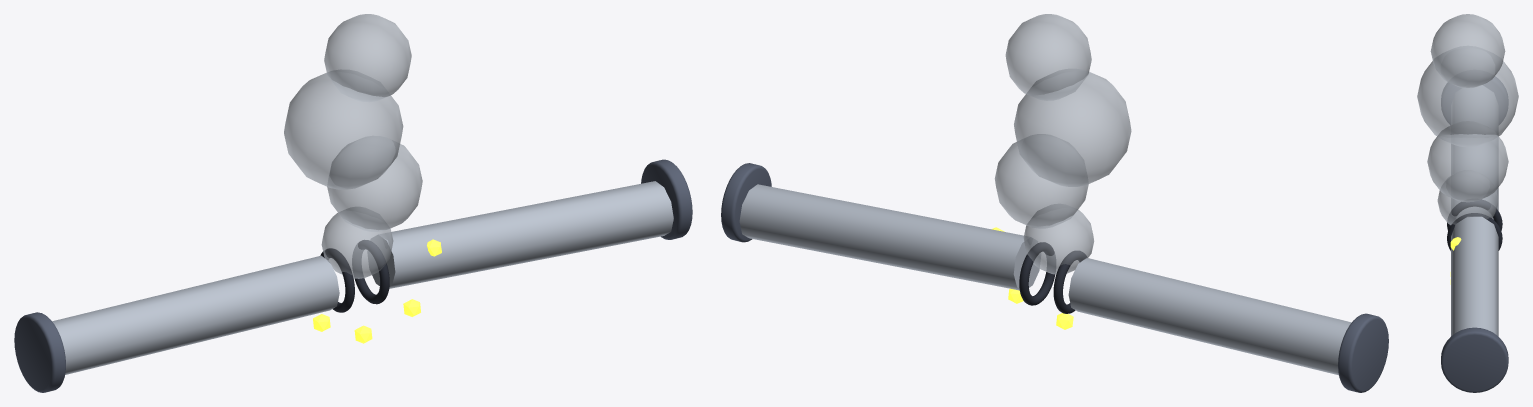
File: Incident_BrokenPipe.glb
3 renders of one model, left to right at view 1: azimuth 30°, elevation 25°; view 2: azimuth 150°, elevation 25°; view 3: azimuth 270°, elevation 25°, orthographic. The views are drawn at different scales.
Parts seen in each view (by area): view 1: Incident_BrokenPipe.PipeB, Incident_BrokenPipe.PipeA, Incident_BrokenPipe.Steam2, Incident_BrokenPipe.Steam1, Incident_BrokenPipe.Steam3, Incident_BrokenPipe.Steam0, Incident_BrokenPipe.Flange, Incident_BrokenPipe.Flange.001, Incident_BrokenPipe.Crack.001, Incident_BrokenPipe.Crack; view 2: Incident_BrokenPipe.PipeB, Incident_BrokenPipe.PipeA, Incident_BrokenPipe.Steam2, Incident_BrokenPipe.Steam1, Incident_BrokenPipe.Steam3, Incident_BrokenPipe.Steam0, Incident_BrokenPipe.Flange, Incident_BrokenPipe.Flange.001, Incident_BrokenPipe.Crack.001, Incident_BrokenPipe.Crack; view 3: Incident_BrokenPipe.Steam2, Incident_BrokenPipe.PipeB, Incident_BrokenPipe.Steam1, Incident_BrokenPipe.Steam3, Incident_BrokenPipe.Flange.001, Incident_BrokenPipe.PipeA, Incident_BrokenPipe.Steam0, Incident_BrokenPipe.Flange, Incident_BrokenPipe.Crack, Incident_BrokenPipe.Crack.001.
Part boxes in pixels (box(x1,y1,x2,y2)): Incident_BrokenPipe.PipeB: box(368, 181, 673, 288); Incident_BrokenPipe.PipeA: box(52, 255, 339, 374); Incident_BrokenPipe.Steam2: box(284, 69, 403, 189); Incident_BrokenPipe.Steam1: box(327, 136, 422, 231); Incident_BrokenPipe.Steam3: box(324, 14, 411, 101); Incident_BrokenPipe.Steam0: box(321, 207, 393, 278); Incident_BrokenPipe.Flange: box(14, 312, 65, 392); Incident_BrokenPipe.Flange.001: box(641, 159, 692, 239); Incident_BrokenPipe.Crack.001: box(352, 240, 389, 304); Incident_BrokenPipe.Crack: box(320, 248, 354, 312); Incident_BrokenPipe.PipeB: box(739, 184, 1040, 290); Incident_BrokenPipe.PipeA: box(1068, 258, 1351, 375); Incident_BrokenPipe.Steam2: box(1014, 69, 1131, 186); Incident_BrokenPipe.Steam1: box(994, 134, 1088, 228); Incident_BrokenPipe.Steam3: box(1005, 14, 1091, 100); Incident_BrokenPipe.Steam0: box(1023, 204, 1094, 274); Incident_BrokenPipe.Flange: box(1338, 313, 1388, 392); Incident_BrokenPipe.Flange.001: box(721, 163, 771, 242); Incident_BrokenPipe.Crack.001: box(1019, 242, 1055, 305); Incident_BrokenPipe.Crack: box(1053, 250, 1086, 313); Incident_BrokenPipe.Steam2: box(1417, 46, 1518, 146); Incident_BrokenPipe.PipeB: box(1451, 216, 1498, 336); Incident_BrokenPipe.Steam1: box(1427, 121, 1508, 202); Incident_BrokenPipe.Steam3: box(1430, 14, 1505, 88); Incident_BrokenPipe.Flange.001: box(1441, 327, 1508, 392); Incident_BrokenPipe.PipeA: box(1451, 85, 1498, 219); Incident_BrokenPipe.Steam0: box(1437, 170, 1498, 225); Incident_BrokenPipe.Flange: box(1441, 77, 1507, 124); Incident_BrokenPipe.Crack: box(1447, 199, 1502, 230); Incident_BrokenPipe.Crack.001: box(1447, 213, 1502, 250).
Bounding box in the file's own units: 1.84 × 0.875 × 0.3.
